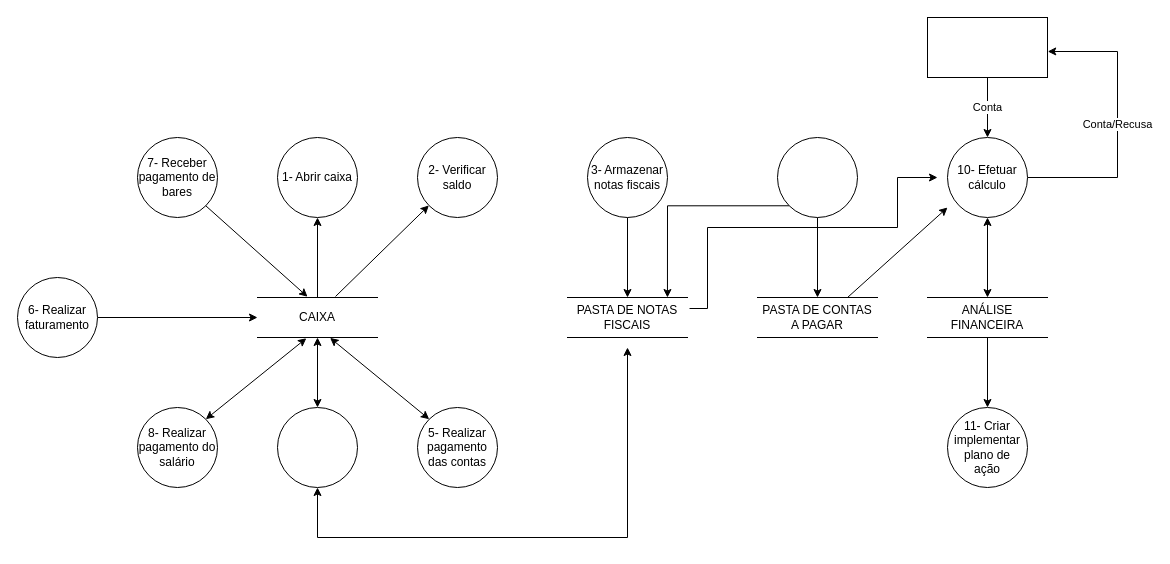
This 1170x564 diagram has some shape labels left out. Each missing label, with the centre of its shape:
"4- Armazenar duplicatas/ boletos" goes at [817,177].
"9- Realizar pagamento de impostos" goes at [317,447].
"Contador" goes at [987,47].
